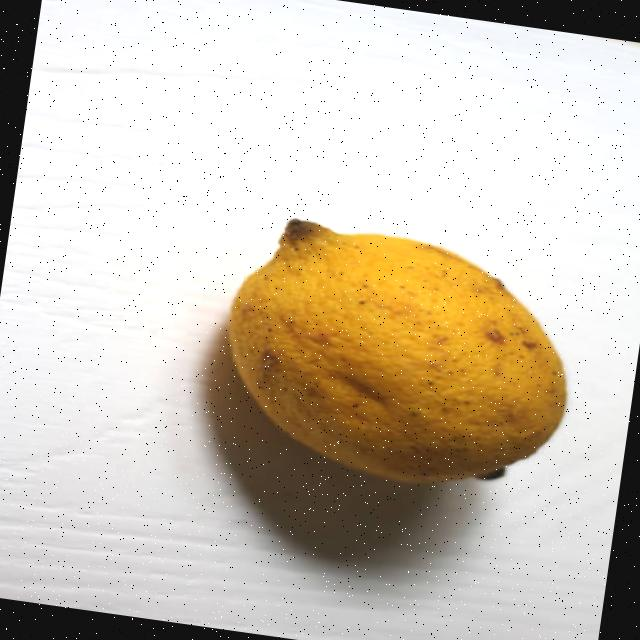overripe: (202, 204, 593, 510)
